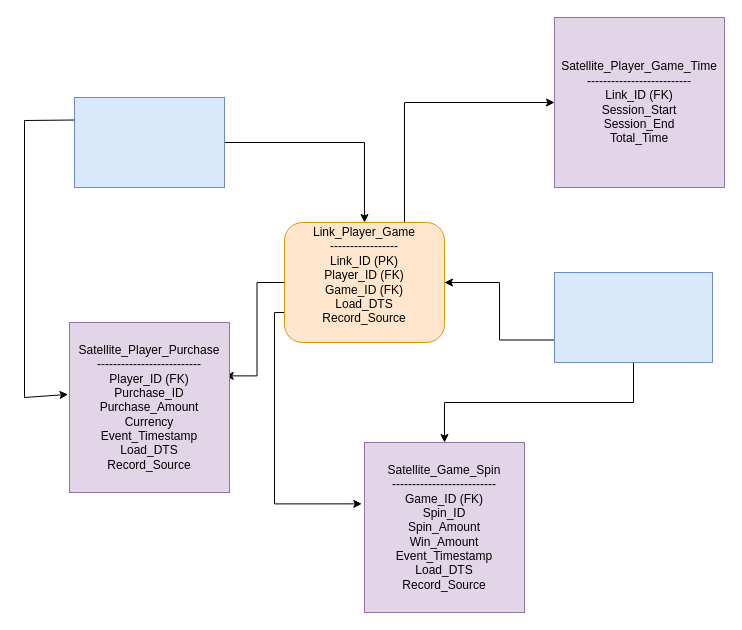
This 742x630 diagram has some shape labels left out. Here are the shapes that lost their labels. From the top down, the centre of each, then its label:
point 149,142: Hub_Player ----------- Player_ ID (PK) Load _DTS Record_ Source
point 633,317: Hub_Game ---------- Game_ID (PK) Load_DTS Record_Source
